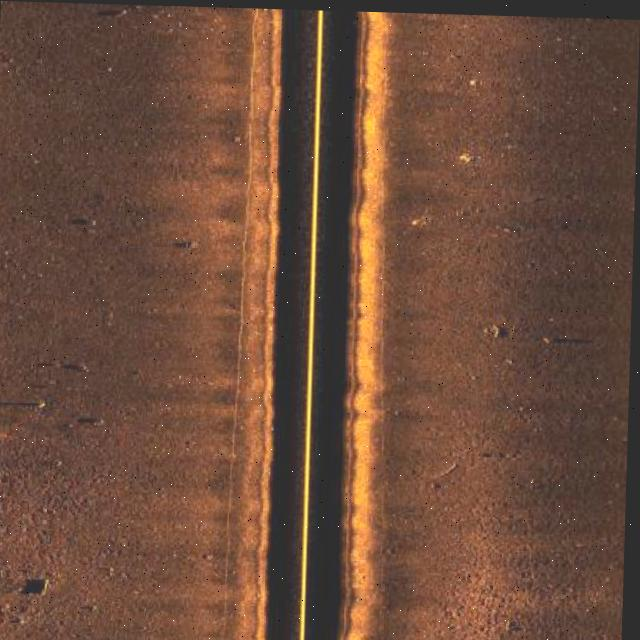mine: (541, 327, 592, 344), (21, 575, 54, 596)
